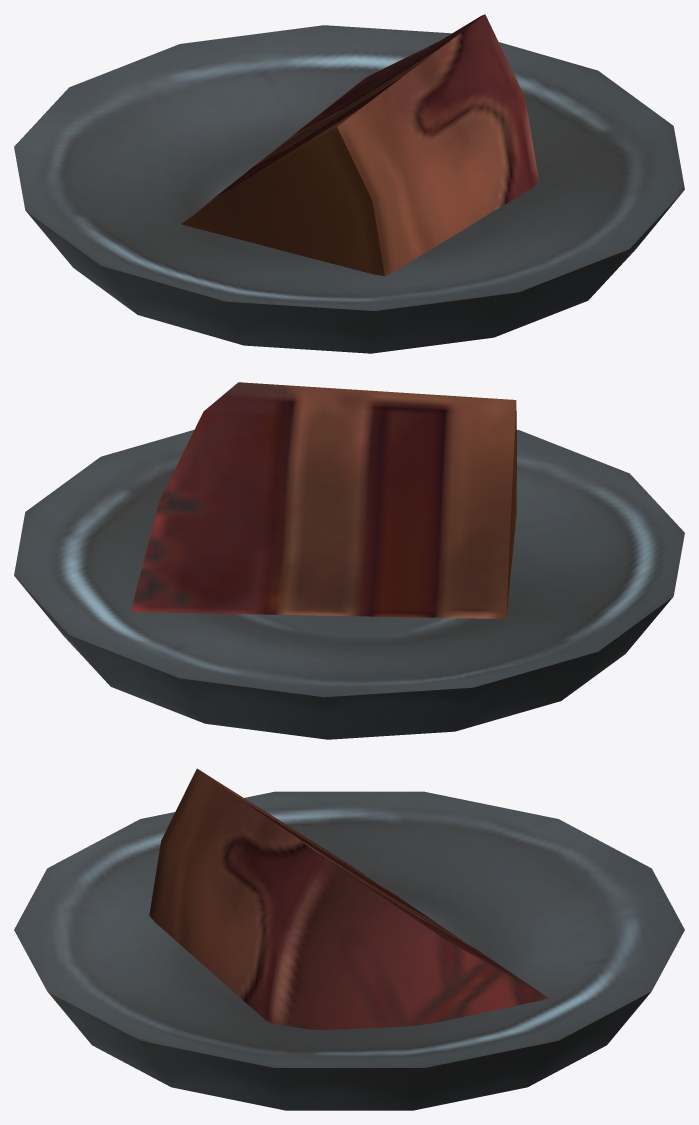
File: layercake_slice.fbx
The picture shows the model from 3 angles, top to bottom: view 1: azimuth 30°, elevation 25°; view 2: azimuth 150°, elevation 25°; view 3: azimuth 270°, elevation 25°; orthographic projection.
Visible parts, largest first — view 1: layercake_slice; view 2: layercake_slice; view 3: layercake_slice.
Part boxes in pixels (x1,y1,x2,y2): layercake_slice: (14,14,684,353); layercake_slice: (14,382,684,739); layercake_slice: (14,768,684,1110).
Bounding box in the file's own units: 36.39 × 11.93 × 37.32.
